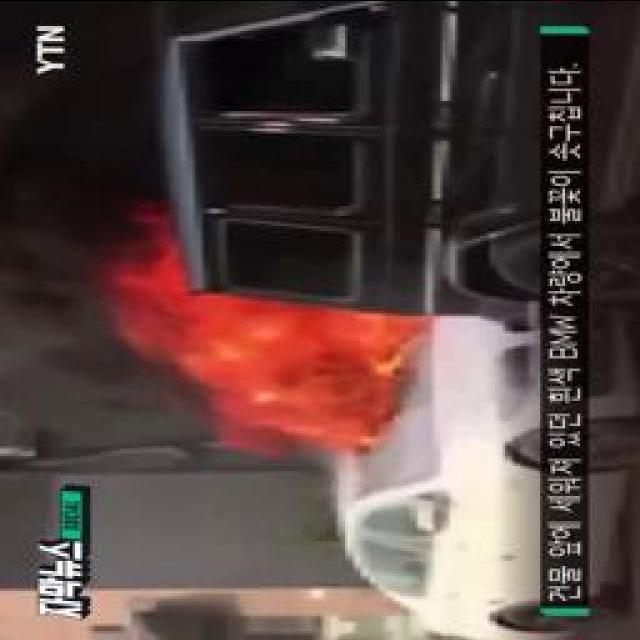Fire: (140, 239, 404, 432)
